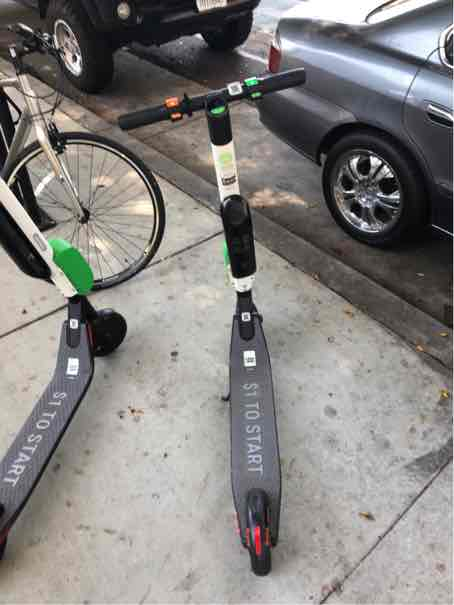scooter: (96, 55, 353, 579)
